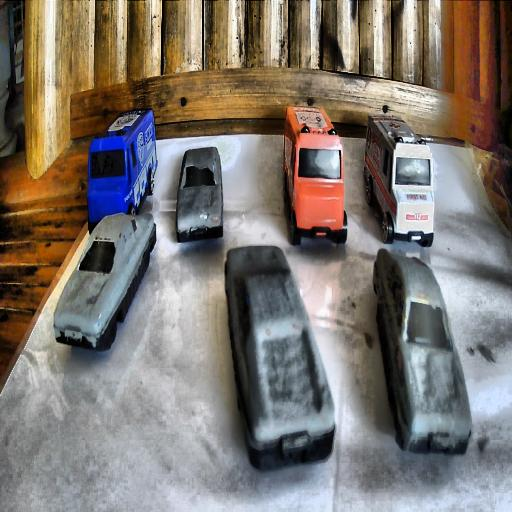ambulance: (364, 110, 434, 246)
fire_truck: (283, 104, 349, 246)
normal_car: (224, 244, 331, 470), (372, 247, 470, 453), (52, 212, 157, 352), (175, 144, 225, 245)
police car: (86, 108, 158, 233)
